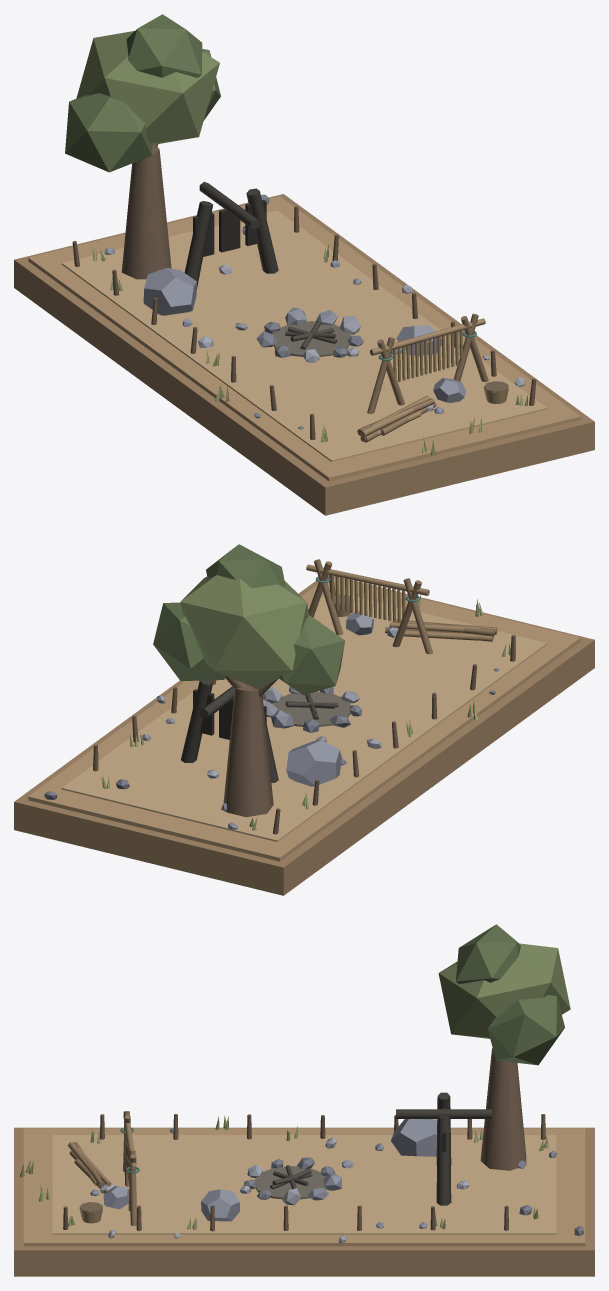
The model's file is num-4-built.glb.
3 views of the same model, one above another, from view 1: azimuth 30°, elevation 25°; view 2: azimuth 150°, elevation 25°; view 3: azimuth 270°, elevation 25° (orthographic). The views are drawn at different scales.
Visible parts, largest first — view 1: era1, Era1DepthKit; view 2: era1, Era1DepthKit; view 3: era1, Era1DepthKit.
Boxes of the visible parts, x1,y1,x2,y2 form: era1: (14, 14, 594, 515); Era1DepthKit: (184, 181, 278, 289); era1: (14, 544, 594, 895); Era1DepthKit: (181, 680, 278, 782); era1: (14, 924, 594, 1276); Era1DepthKit: (396, 1092, 491, 1205).
Bounding box in the file's own units: 9.02 × 8.96 × 18.
